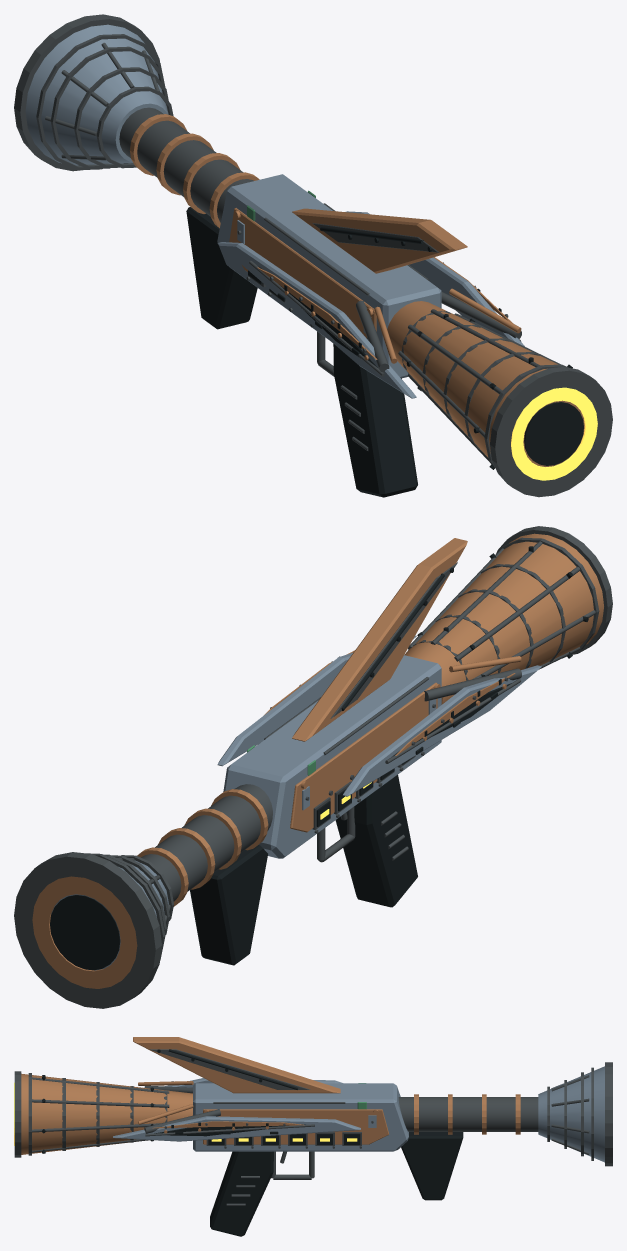
File: kick_1.glb
3 views of the same model, one above another, from view 1: azimuth 30°, elevation 25°; view 2: azimuth 150°, elevation 25°; view 3: azimuth 270°, elevation 25° (orthographic). The views are drawn at different scales.
Parts seen in each view (by area): view 1: Weapon_kick_v1; view 2: Weapon_kick_v1; view 3: Weapon_kick_v1.
Part boxes in pixels (left/top/right/bottom): Weapon_kick_v1: left=14, top=14, right=612, bottom=497; Weapon_kick_v1: left=14, top=526, right=612, bottom=1008; Weapon_kick_v1: left=14, top=1037, right=612, bottom=1236.
Bounding box in the file's own units: 0.156 × 0.3139 × 0.884.
